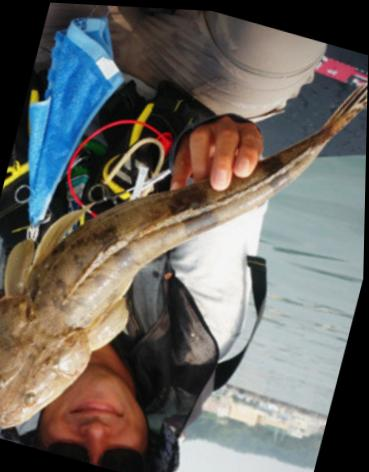fish: (0, 77, 368, 428)
